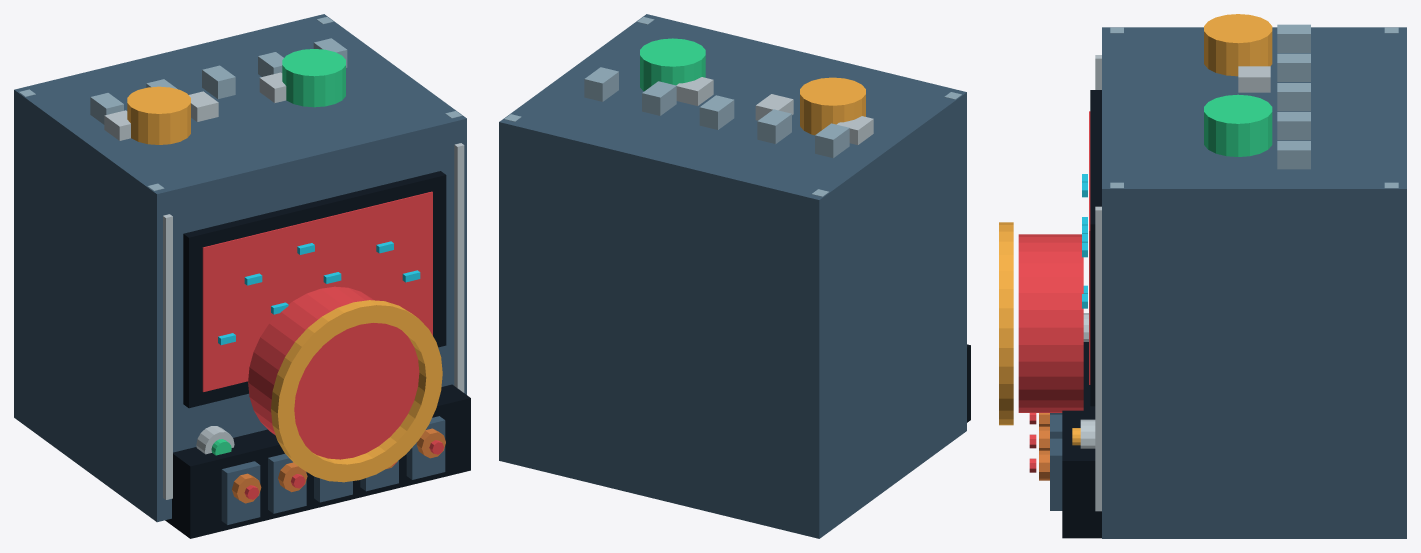
The model's file is 39_L73_CMPEmergencySafetyStation.fbx.
3 renders of one model, left to right at view 1: azimuth 30°, elevation 25°; view 2: azimuth 150°, elevation 25°; view 3: azimuth 270°, elevation 25°, orthographic. The views are drawn at different scales.
Parts seen in each view (by area): view 1: CMPEmergencySafetyStation, CMPEmergencySafetyStation_Part_0050, CMPEmergencySafetyStation_Part_0051; view 2: CMPEmergencySafetyStation; view 3: CMPEmergencySafetyStation, CMPEmergencySafetyStation_Part_0050, CMPEmergencySafetyStation_Part_0051.
Boxes of the visible parts, left/top/right/bottom form: CMPEmergencySafetyStation: left=14, top=14, right=470, bottom=538; CMPEmergencySafetyStation_Part_0050: left=248, top=286, right=419, bottom=459; CMPEmergencySafetyStation_Part_0051: left=271, top=300, right=442, bottom=482; CMPEmergencySafetyStation: left=499, top=14, right=970, bottom=538; CMPEmergencySafetyStation: left=1029, top=14, right=1406, bottom=538; CMPEmergencySafetyStation_Part_0050: left=1018, top=234, right=1083, bottom=412; CMPEmergencySafetyStation_Part_0051: left=999, top=222, right=1013, bottom=425.
Bounding box in the file's own units: 94 × 106 × 100.
